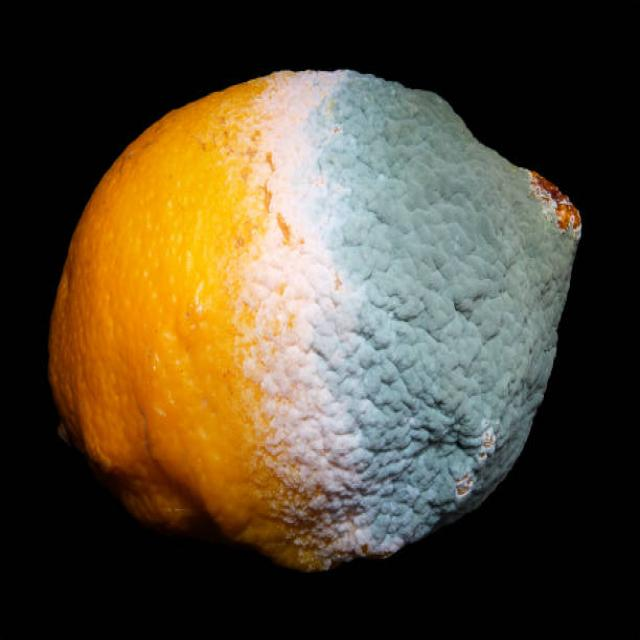Rotten: (47, 64, 584, 572)
